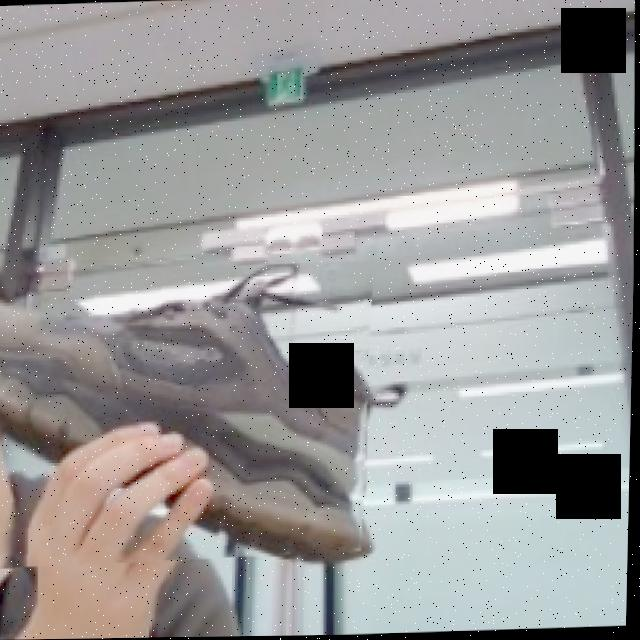shoe: (0, 262, 379, 569)
